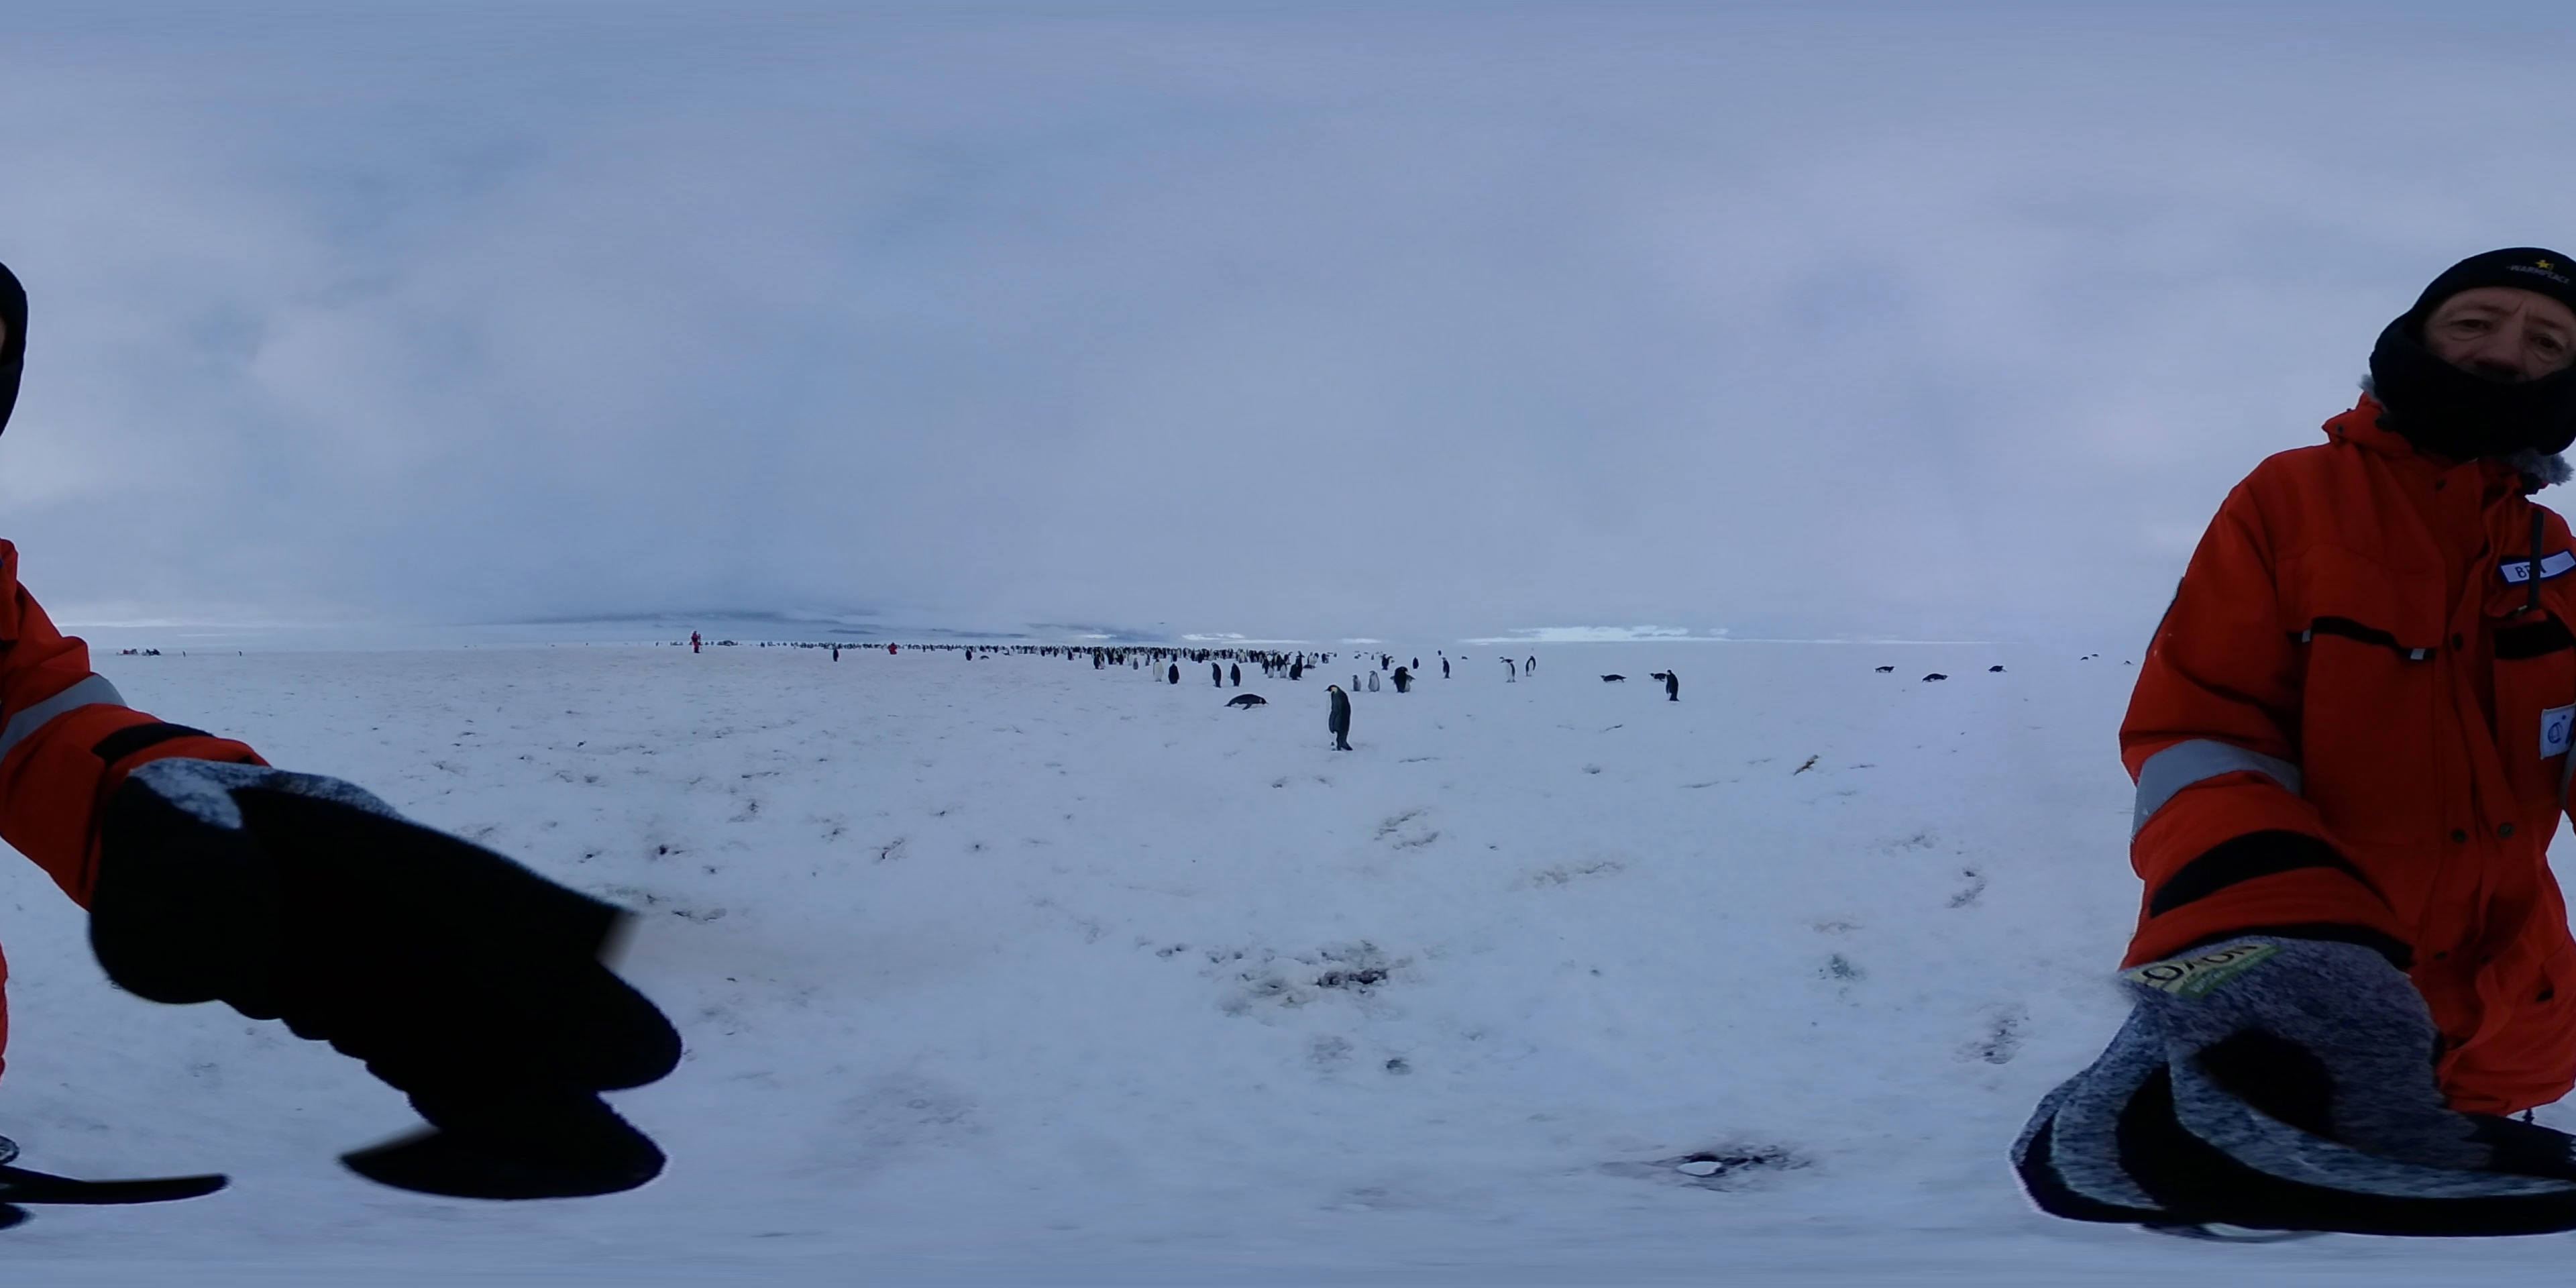adult_standing_penguin: (1319, 683, 1357, 754), (1661, 669, 1684, 705), (1393, 662, 1413, 695), (1207, 662, 1224, 692), (1148, 659, 1165, 685), (1227, 659, 1242, 685), (1503, 659, 1516, 683), (1166, 664, 1180, 685), (1441, 657, 1452, 680)
adult_toboggan_penguin: (1224, 692, 1270, 710), (1600, 674, 1628, 683), (1649, 672, 1672, 680)
juvenile_penguin: (1367, 670, 1383, 695), (1350, 674, 1364, 695)
researcher: (1981, 207, 2576, 1245)
